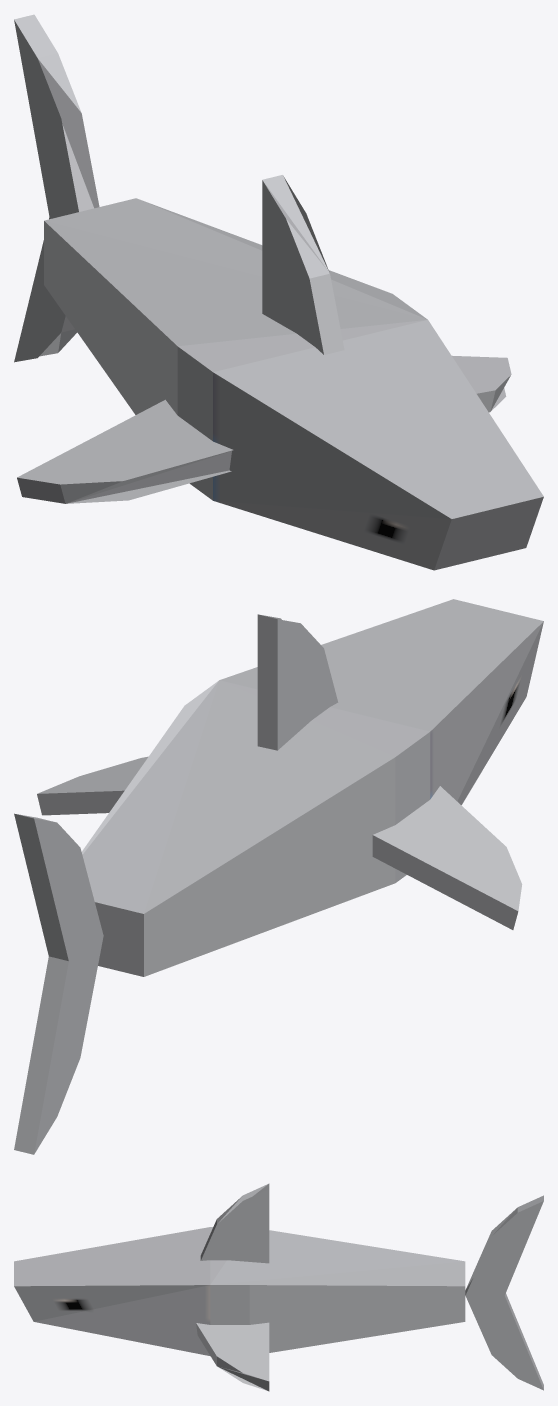
Rendered from shark.gltf.
3 renders of one model, top to bottom at view 1: azimuth 30°, elevation 25°; view 2: azimuth 150°, elevation 25°; view 3: azimuth 270°, elevation 25°, orthographic. The views are drawn at different scales.
Size of the model in its own units: 5.99 by 4.25 by 10.12.
Materials: 1 (1 with a texture image).
